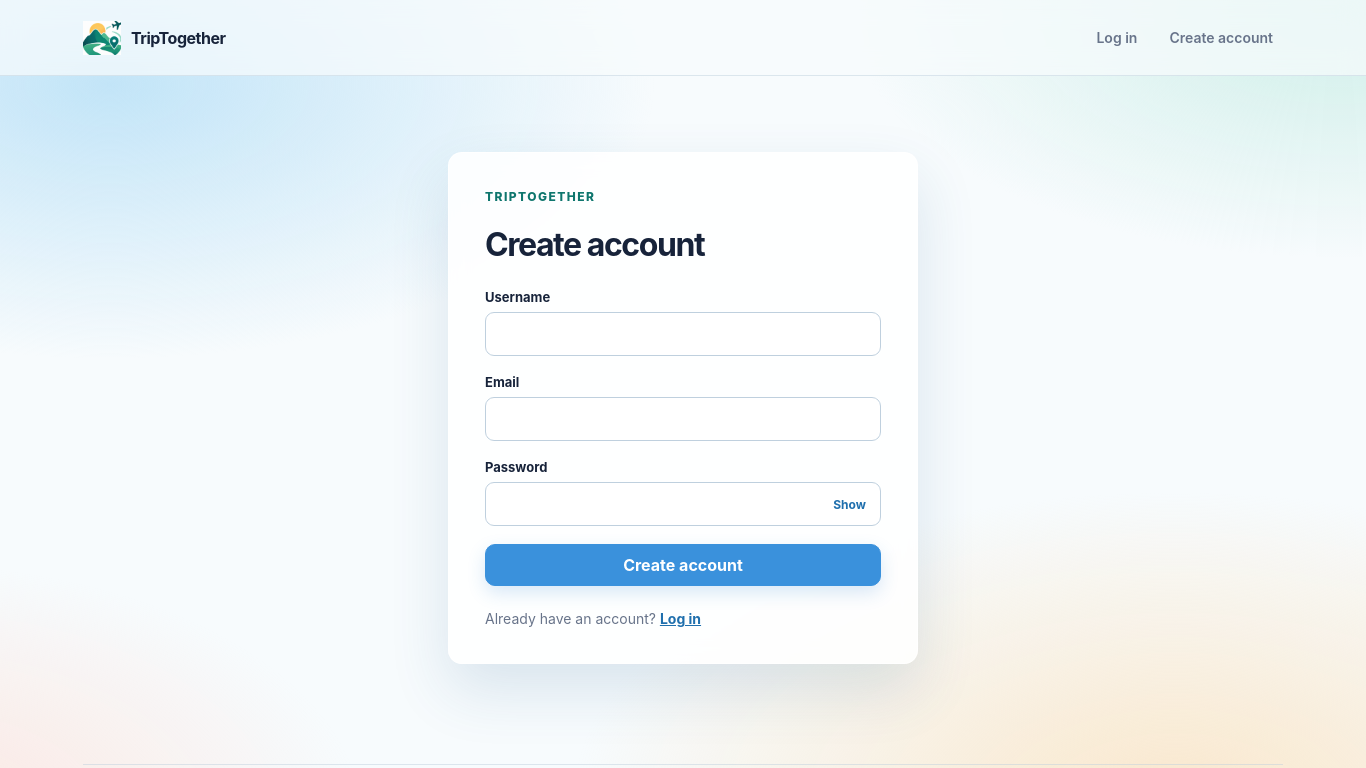
Test: Register and login pages › shows EMAIL_ALREADY_EXISTS near its field
In the field labelled "Username": [683, 334] box top-left (485, 312), bottom-right (881, 356), type "reader"
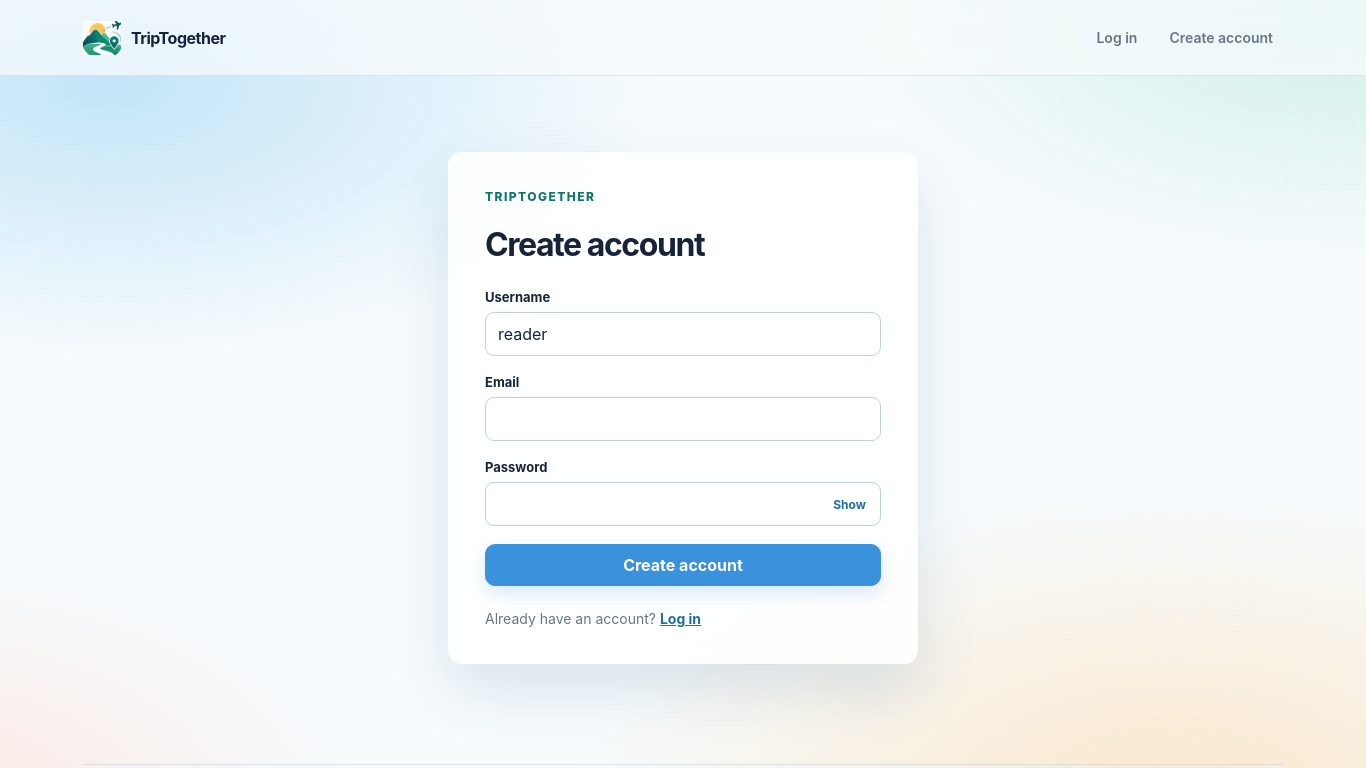
In the field labelled "Email": [683, 419] box top-left (485, 397), bottom-right (881, 441), type "reader@example.com"
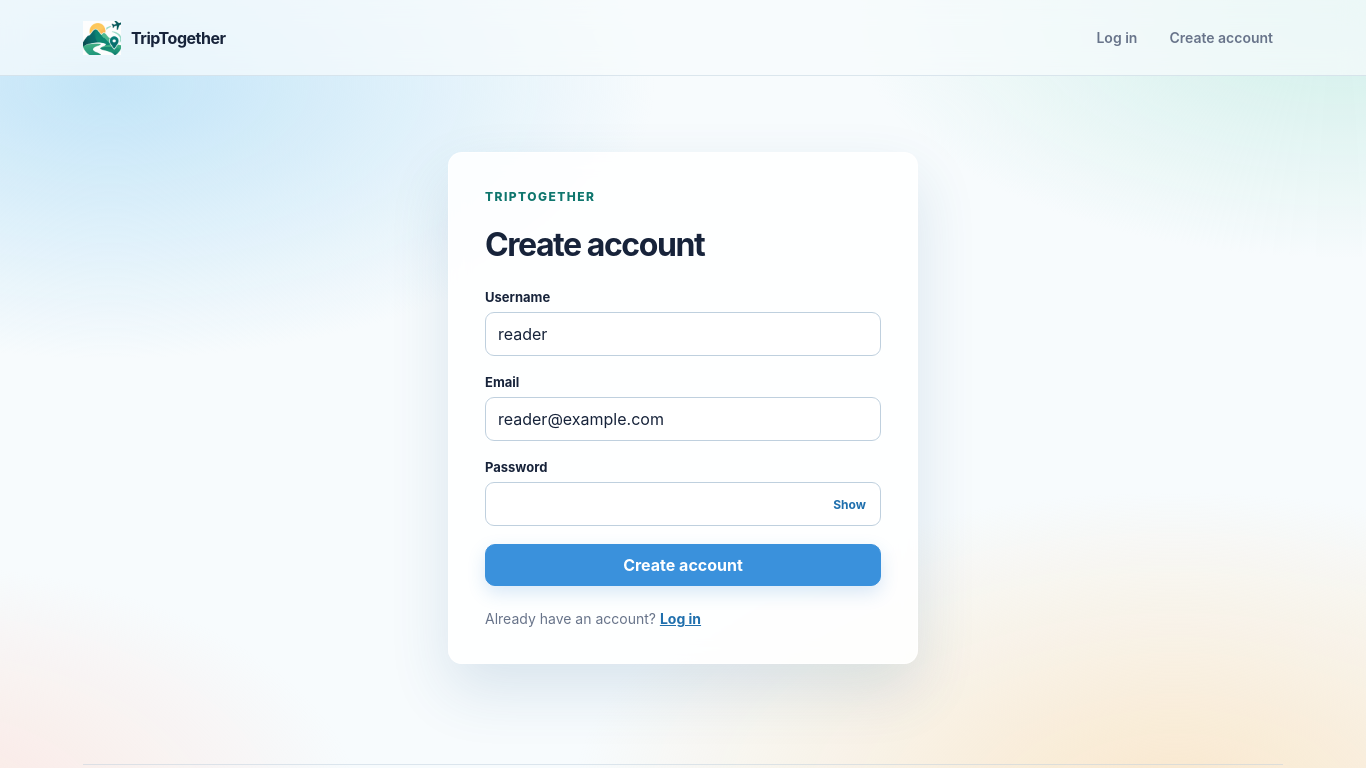
In the password field labelled "Password": [683, 504] box top-left (485, 482), bottom-right (881, 526), type " local-test-input "
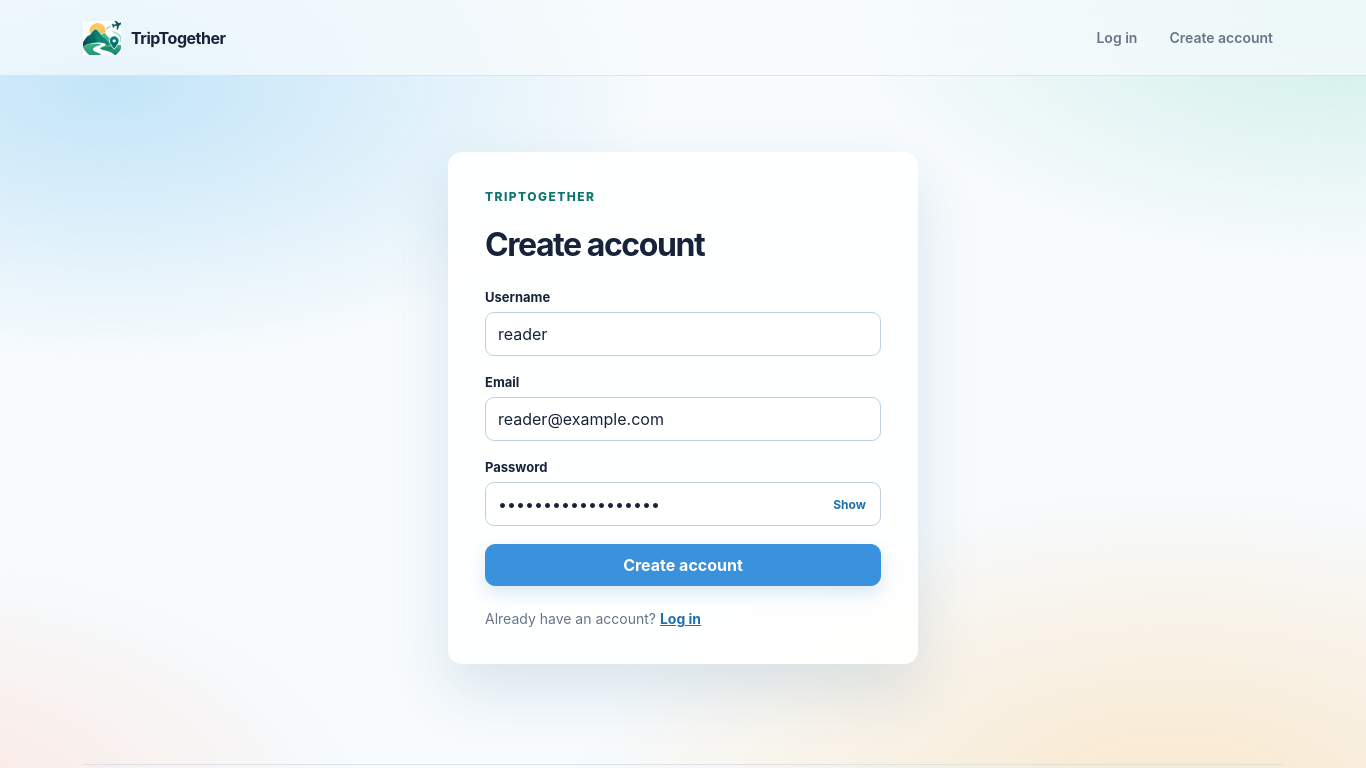
Click the button "Create account": [683, 565] box top-left (485, 544), bottom-right (881, 586)
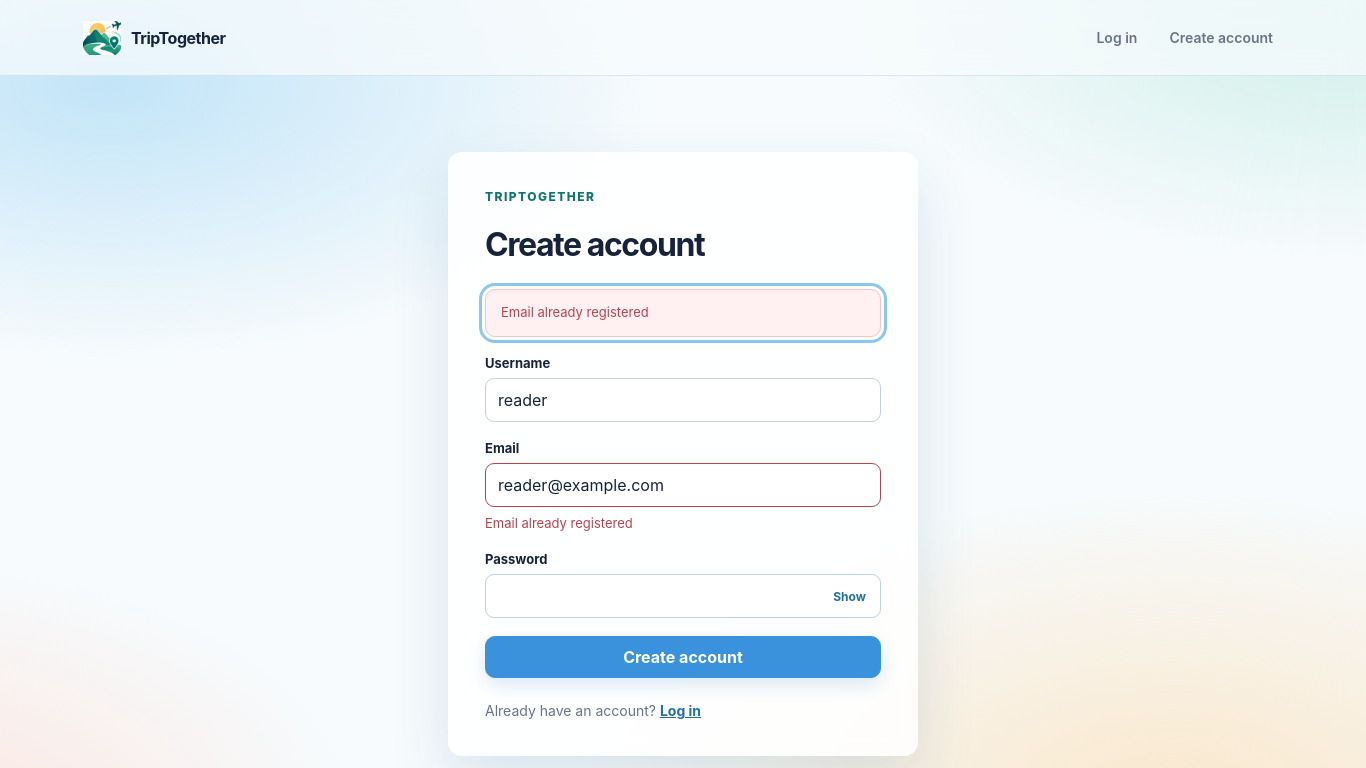
Expected: the message reads "Email already registered", top-left (501, 304), bottom-right (649, 320)
Expected: the password field labelled "Password" is empty, top-left (485, 574), bottom-right (881, 618)
